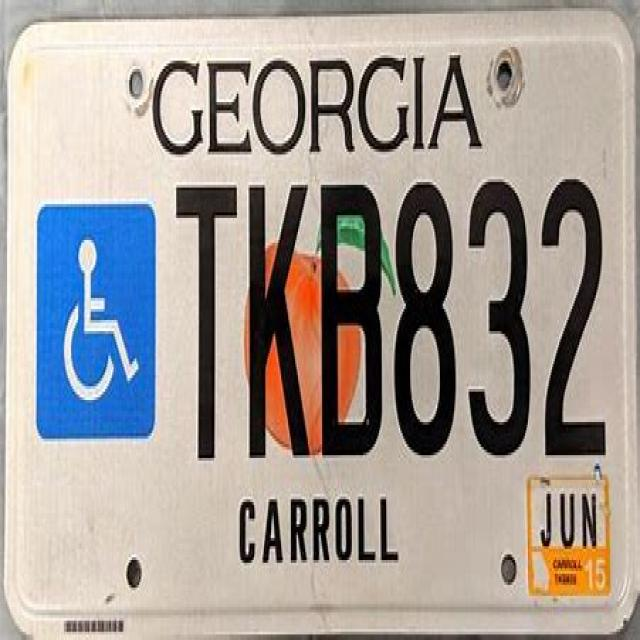car-handicap-placard: (60, 234, 145, 409)
